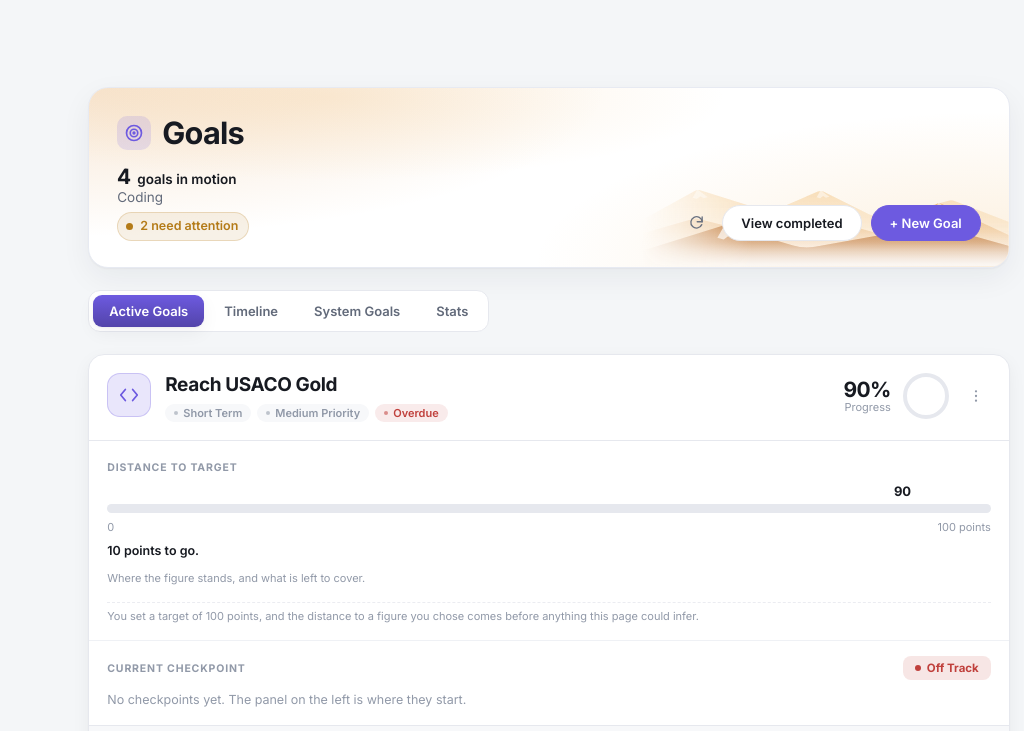
the attention filter › says the list is filtered, where the list is
Step 1. Click the button "2 need attention" → [183, 226], box [117,212,249,241]
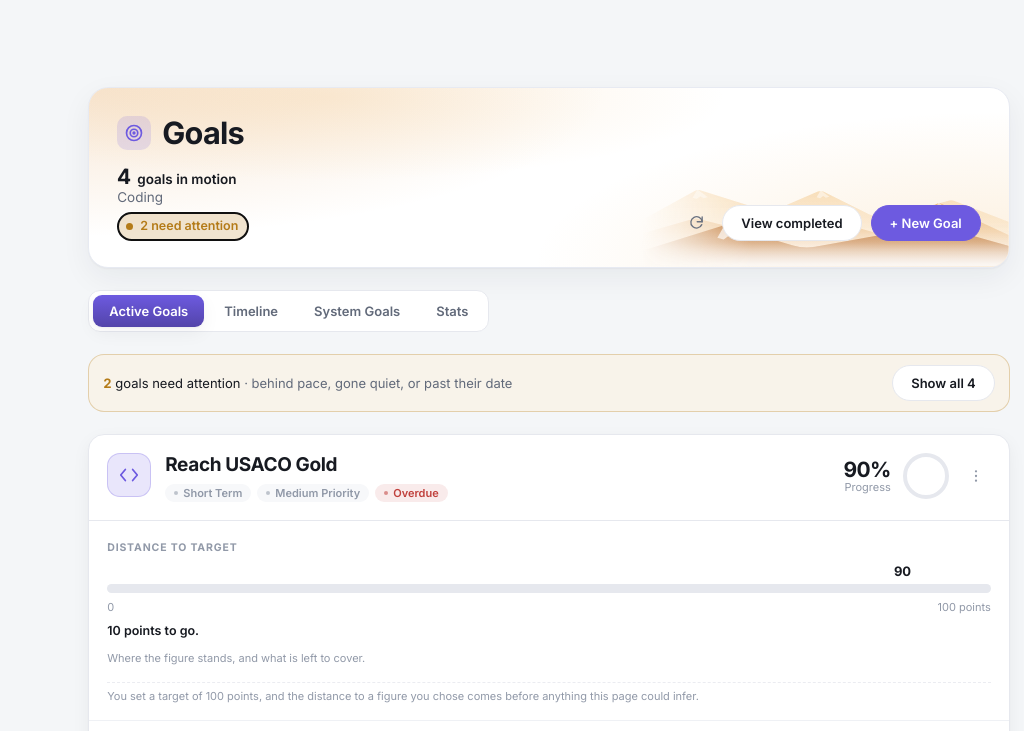
Now the message shows "2 goals need attention", box [88,354,1010,412]
Step 2. Click the button "Show all 4" → [943, 383], box [892,365,995,401]
(page scrolled)
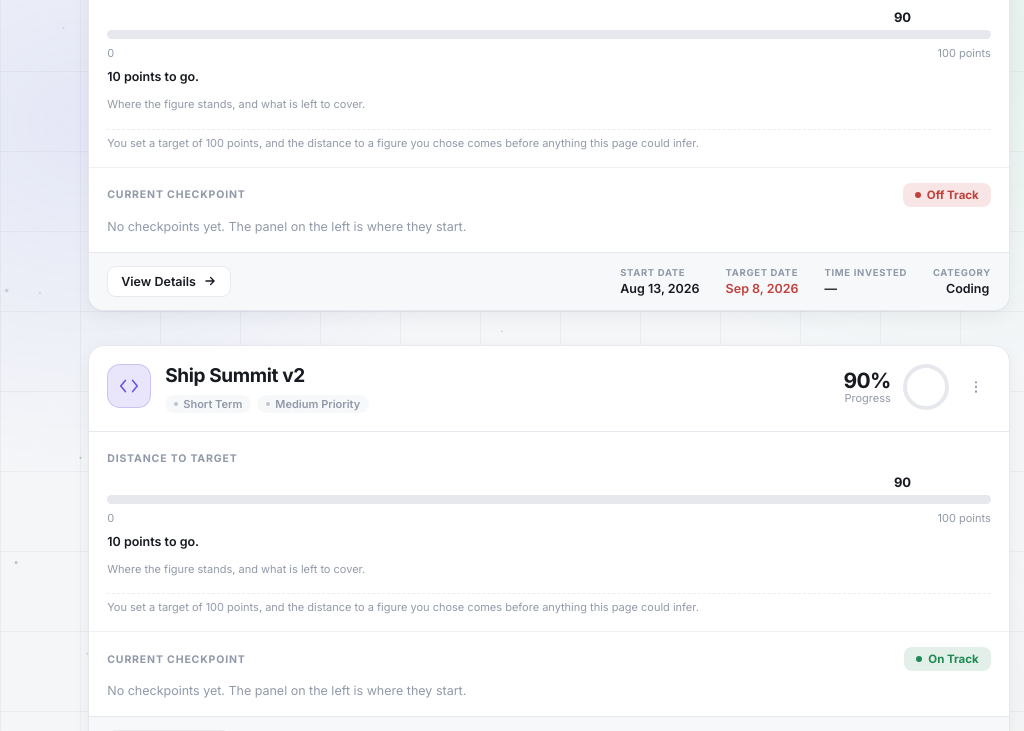
Now the heading "Ship Summit v2" is shown, box [165,364,305,387]
